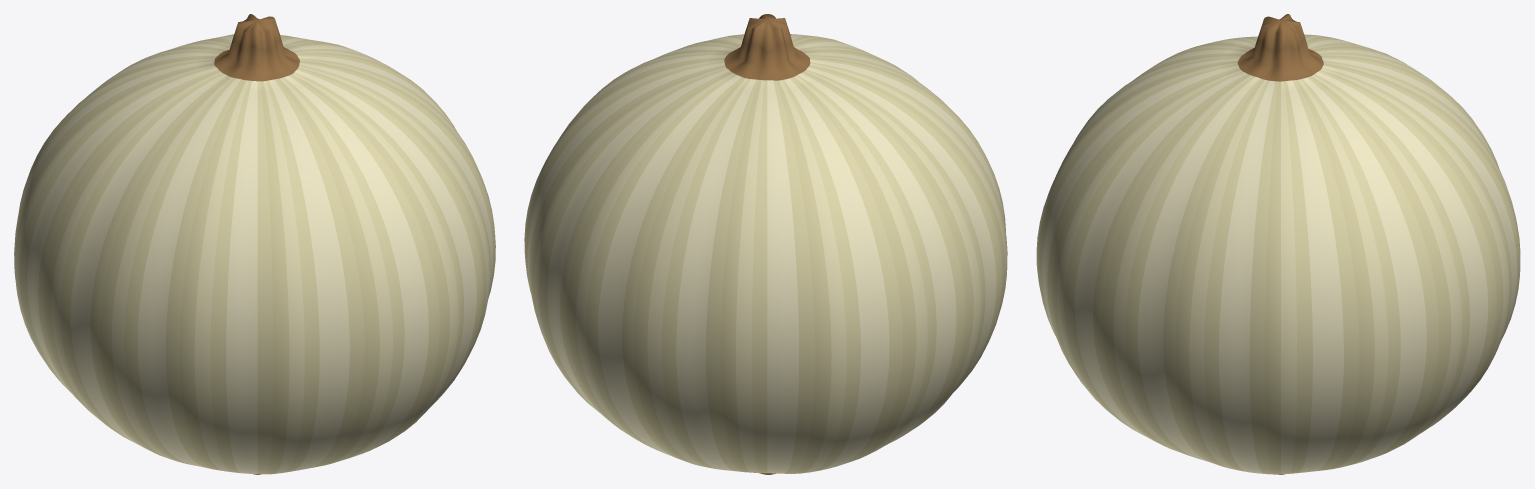
3 views of the same model, side by side, from view 1: azimuth 30°, elevation 25°; view 2: azimuth 150°, elevation 25°; view 3: azimuth 270°, elevation 25° (orthographic).
Parts seen in each view (by area): view 1: Whole onion with integral neck basal scar and layered skin; view 2: Whole onion with integral neck basal scar and layered skin; view 3: Whole onion with integral neck basal scar and layered skin.
Boxes of the visible parts, left/top/right/bottom form: Whole onion with integral neck basal scar and layered skin: left=14, top=14, right=495, bottom=474; Whole onion with integral neck basal scar and layered skin: left=524, top=14, right=1007, bottom=474; Whole onion with integral neck basal scar and layered skin: left=1036, top=14, right=1520, bottom=474.
Bounding box in the file's own units: 8.54 × 8.68 × 8.54.
